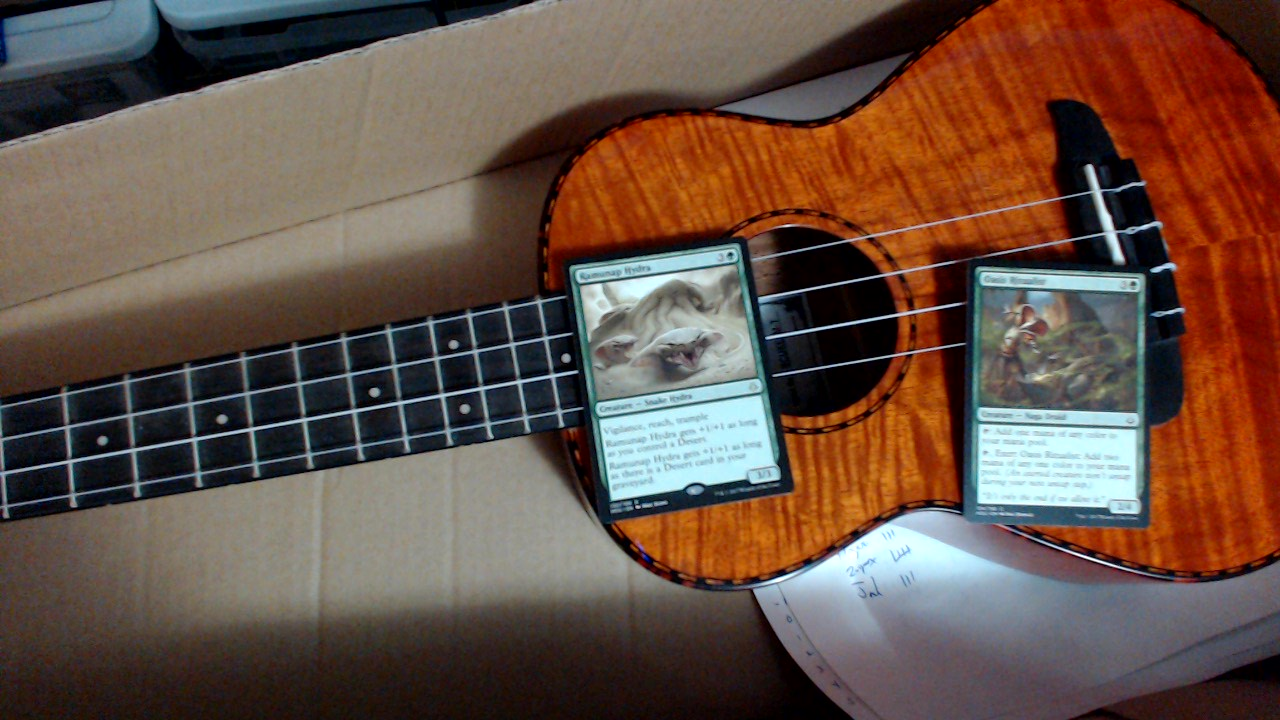MTG Card: (563, 234, 799, 527), (953, 252, 1159, 534)
